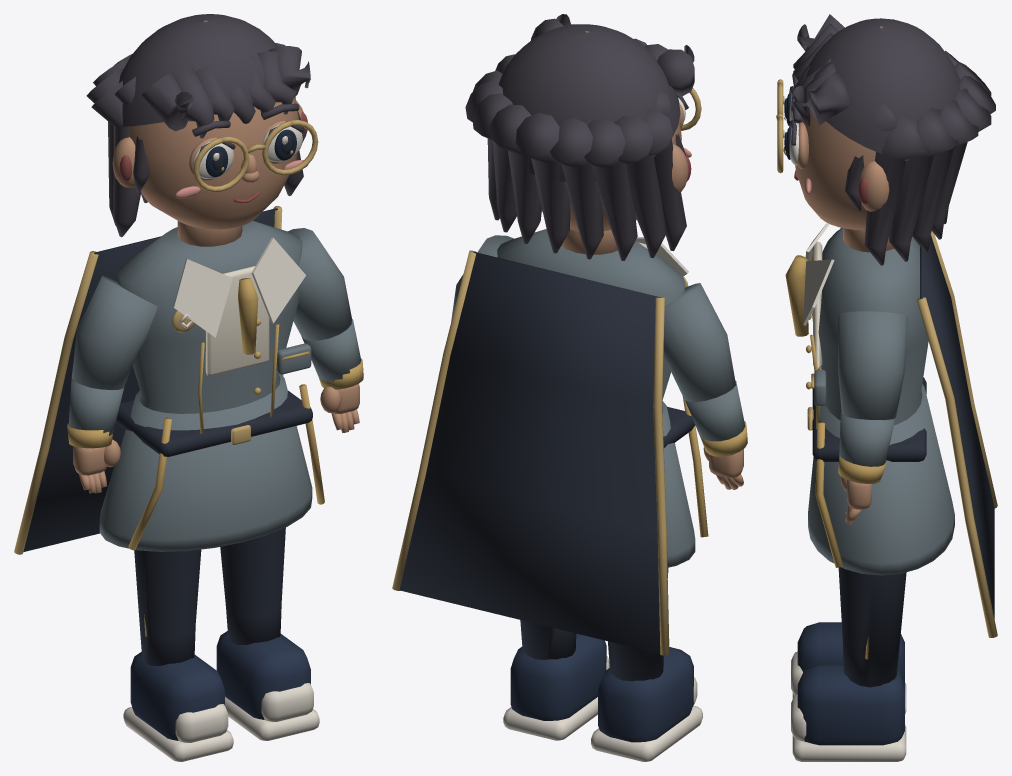
The model's file is elite_iron_engineer.glb.
The picture shows the model from 3 angles, left to right: view 1: azimuth 30°, elevation 25°; view 2: azimuth 150°, elevation 25°; view 3: azimuth 270°, elevation 25°; orthographic projection.
Parts seen in each view (by area): view 1: figure.023; view 2: figure.023; view 3: figure.023.
Part boxes in pixels (x1,y1,x2,y2): figure.023: (14,14,363,761); figure.023: (392,14,747,761); figure.023: (776,14,997,761).
Size of the model in its own units: 1.15 by 2.63 by 0.7529.
